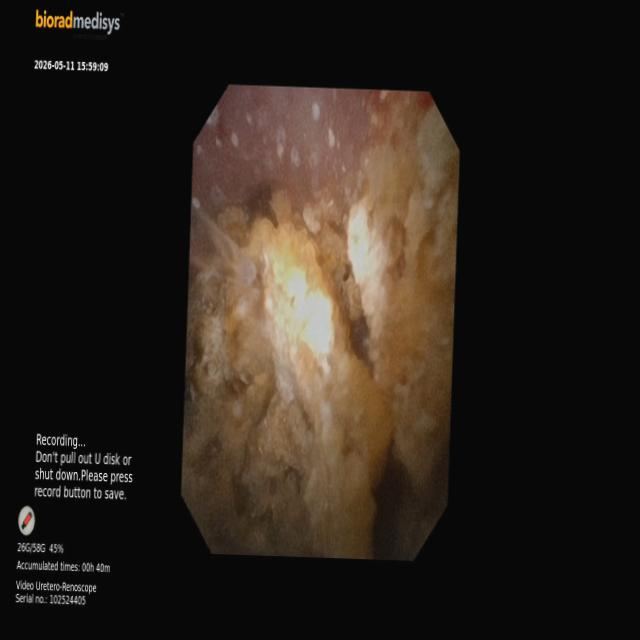laser-fibre: (189, 205, 256, 284)
laser_dot: (294, 289, 333, 355)
stone-new: (182, 207, 391, 557), (347, 106, 458, 481)
